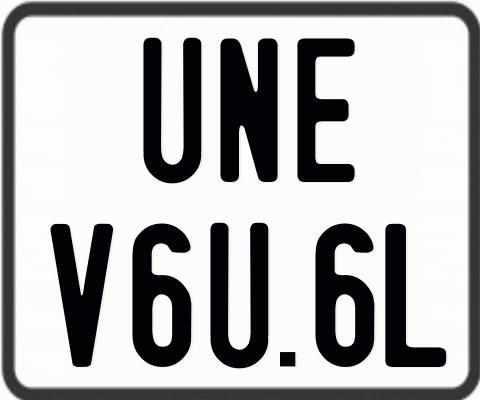6: (313, 223, 377, 372), (131, 223, 192, 368)
E: (296, 38, 355, 184)
L: (384, 221, 447, 365)
N: (217, 35, 280, 183)
U: (143, 37, 202, 185), (208, 221, 266, 371)
V: (51, 222, 119, 371)
